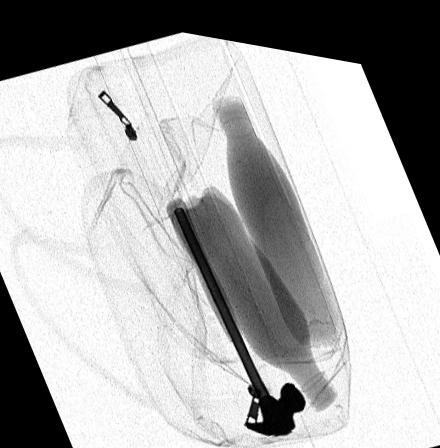Hammer: (164, 190, 307, 428)
